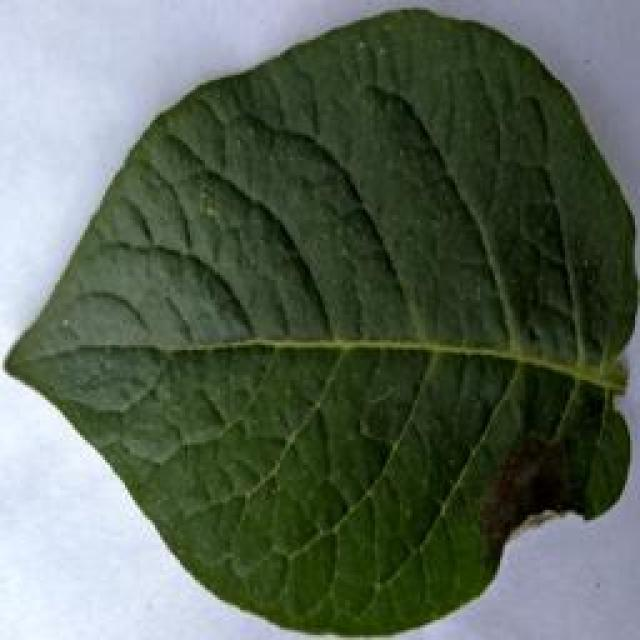Potato_Late_Blight: (1, 5, 633, 632)
